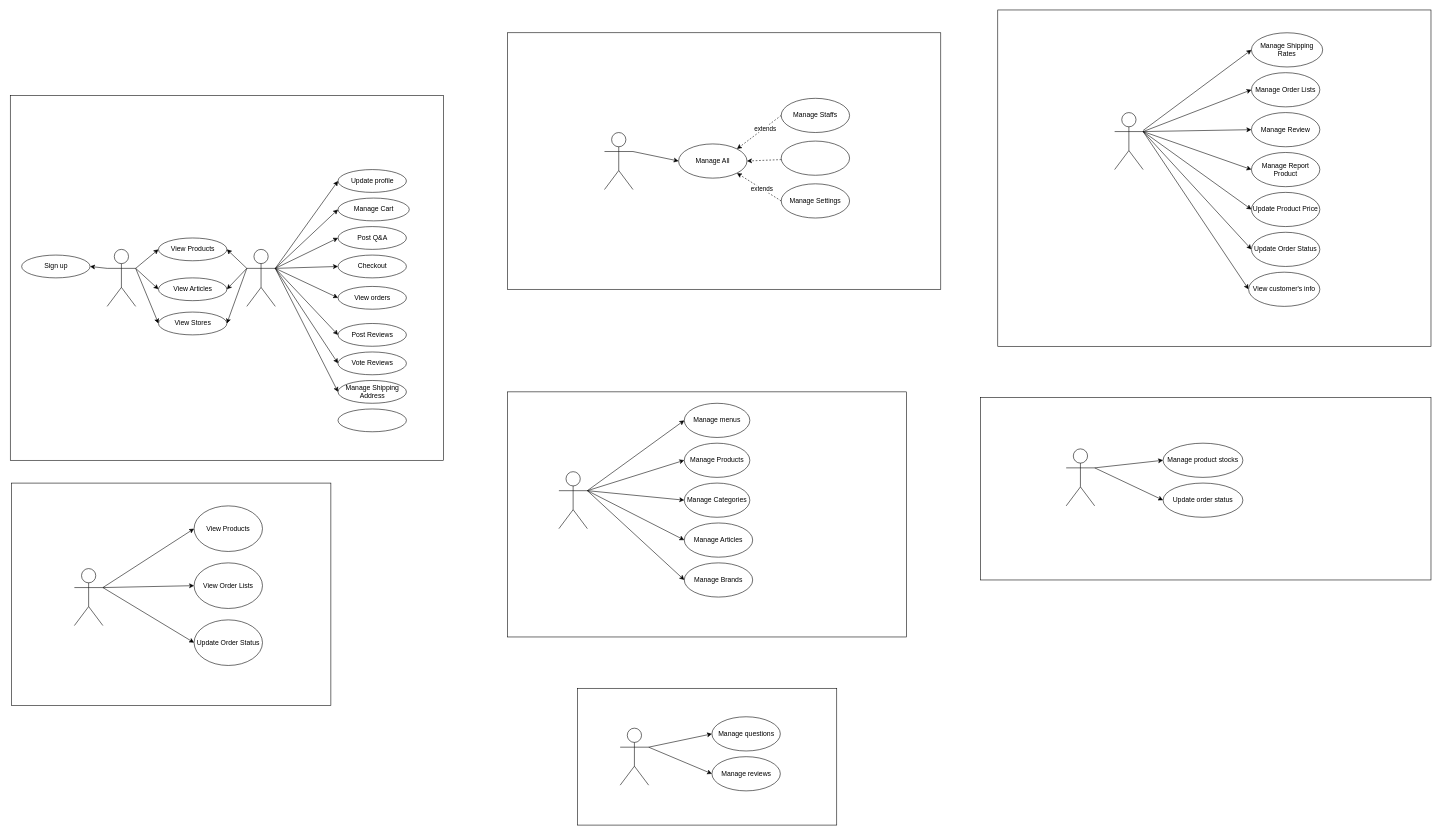
The diagram is 1441 pixels wide and 835 high, and some of its shapes have lost their labels. The shapes that lost their labels are listed below. From the top down, each one's box as (x1, y1, x2, y2) in pixels, then its label:
(604, 132, 633, 190): Admin
(781, 141, 850, 175): Manage stores
(1114, 112, 1143, 170): SalesPerson
(107, 249, 136, 306): Visitor
(246, 249, 275, 306): Customer
(337, 408, 406, 432): Make payment
(1066, 448, 1095, 506): Warehouse Staff (Opt)
(558, 471, 587, 529): Editor
(74, 568, 103, 626): Shipper (Opt)
(620, 728, 649, 785): Assistant (Opt)
